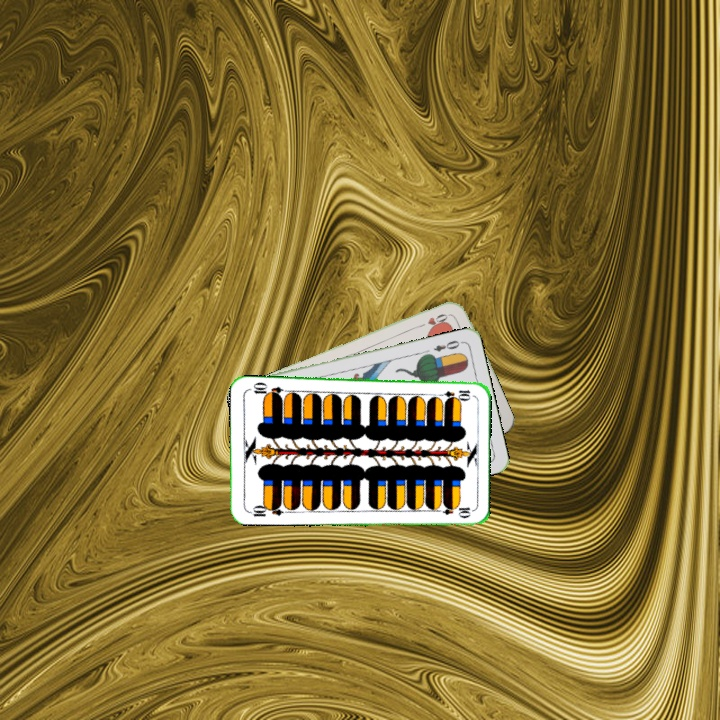E10: (244, 500, 285, 519), (434, 386, 473, 401)
EO: (429, 336, 462, 354)
HO: (413, 309, 452, 330)
